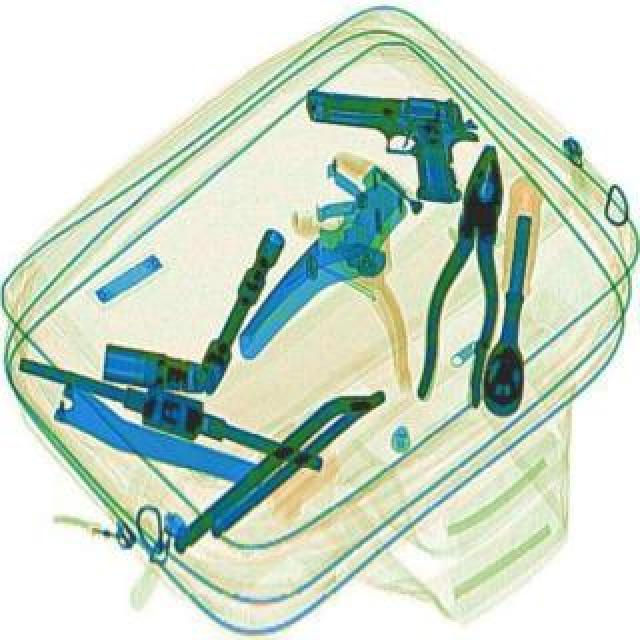gun: (298, 90, 486, 210)
wrench: (418, 144, 526, 412)
